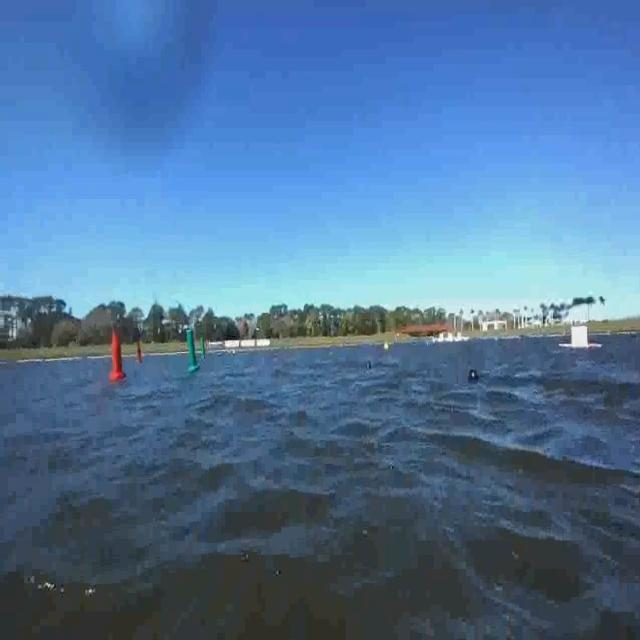black-buoy: (468, 367, 478, 381), (366, 360, 371, 367)
green-column-buoy: (184, 329, 199, 373), (201, 336, 207, 357)
red-column-buoy: (108, 328, 125, 380), (136, 341, 144, 365)
yellow-buoy: (383, 342, 391, 354)
